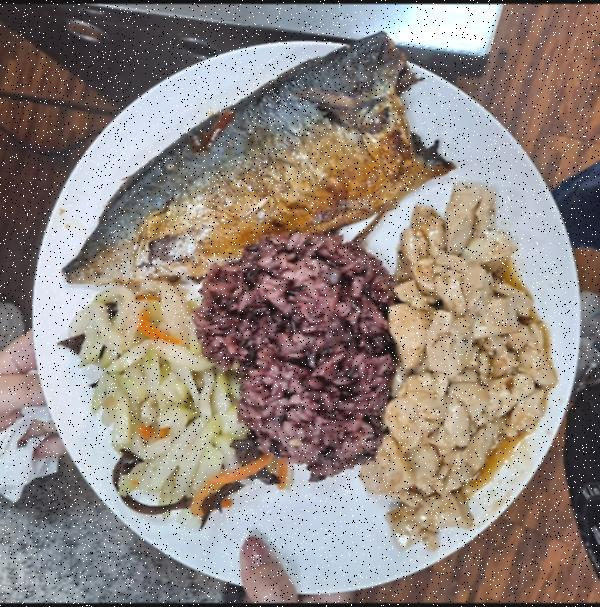grilled mackerel: (56, 33, 444, 292)
plate: (21, 33, 585, 590)
purple rice: (189, 232, 399, 480)
side dish: (365, 180, 552, 554), (57, 288, 274, 518)
